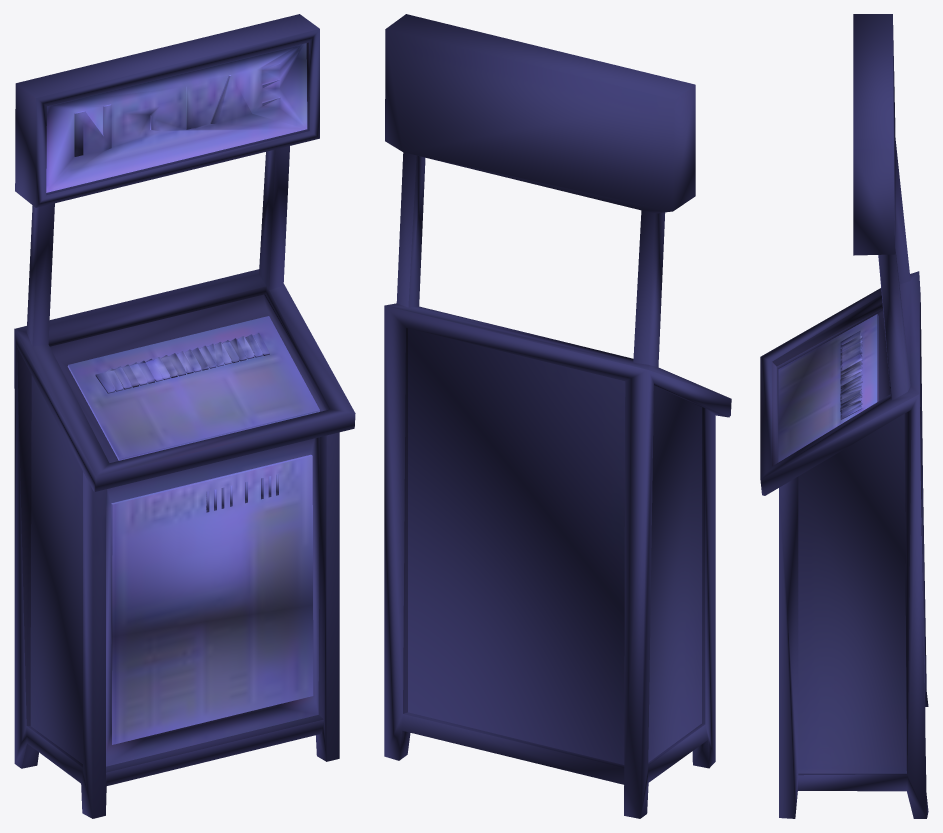
File: model.progressive.glb
The picture shows the model from 3 angles, left to right: view 1: azimuth 30°, elevation 25°; view 2: azimuth 150°, elevation 25°; view 3: azimuth 270°, elevation 25°; orthographic projection. The views are drawn at different scales.
Parts seen in each view (by area): view 1: mesh_input; view 2: mesh_input; view 3: mesh_input.
Boxes of the visible parts, left/top/right/bottom form: mesh_input: left=14, top=14, right=355, bottom=818; mesh_input: left=384, top=14, right=731, bottom=818; mesh_input: left=760, top=14, right=928, bottom=818.
Bounding box in the file's own units: 0.8047 × 1.89 × 0.4239.
Materials: 1 (1 with a texture image).
